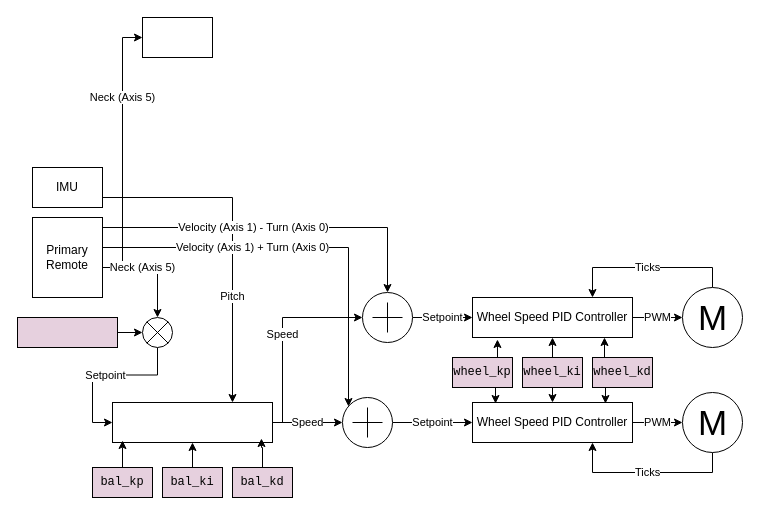
Some shapes in this 760 by 515 pixel diagram are drawn without their labels. Each missing label, with the box of its shape:
bal_neck_mix: (16, 316, 118, 348)
Balance PID Controller: (112, 402, 272, 442)
Neck Servo: (142, 16, 212, 58)
